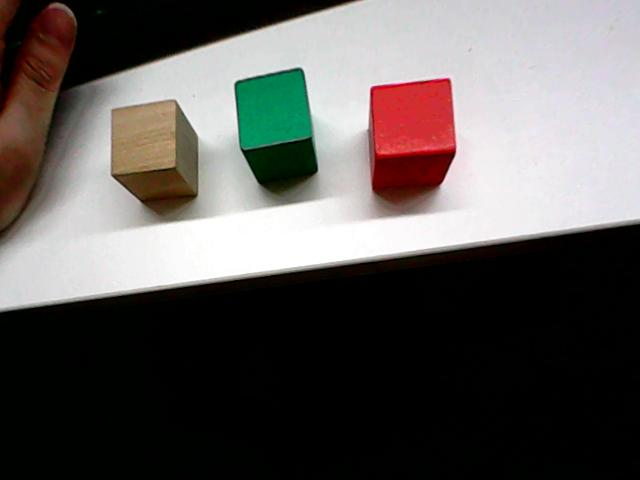green_box: (231, 64, 321, 191)
raw_box: (107, 95, 201, 207)
red_box: (364, 72, 460, 197)
